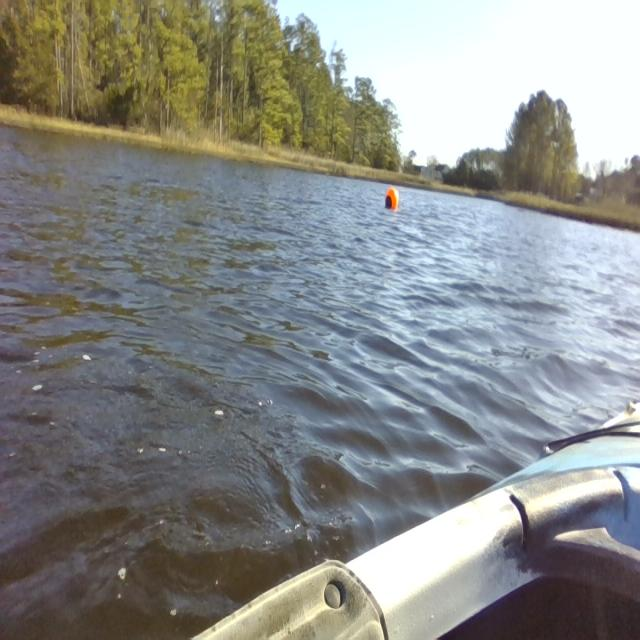Buoy: (382, 180, 403, 216)
